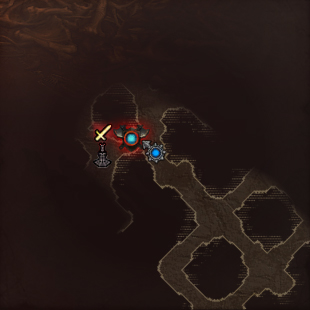PowerPylon: (94, 124, 113, 166)
